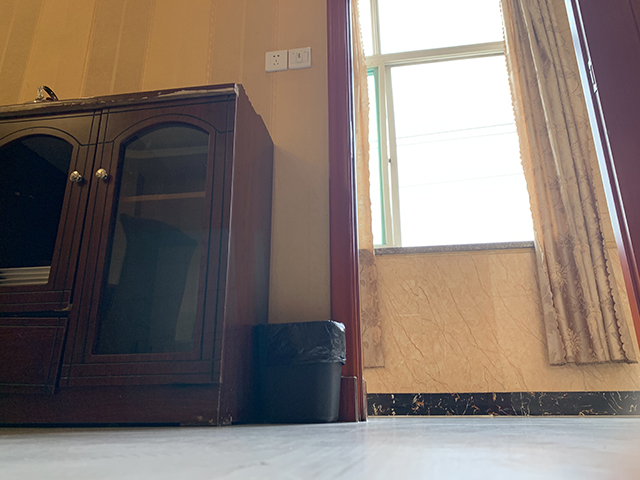cabinet: (1, 82, 276, 430)
curtain: (501, 1, 640, 365), (346, 1, 386, 372)
trashcan: (254, 319, 348, 425)
